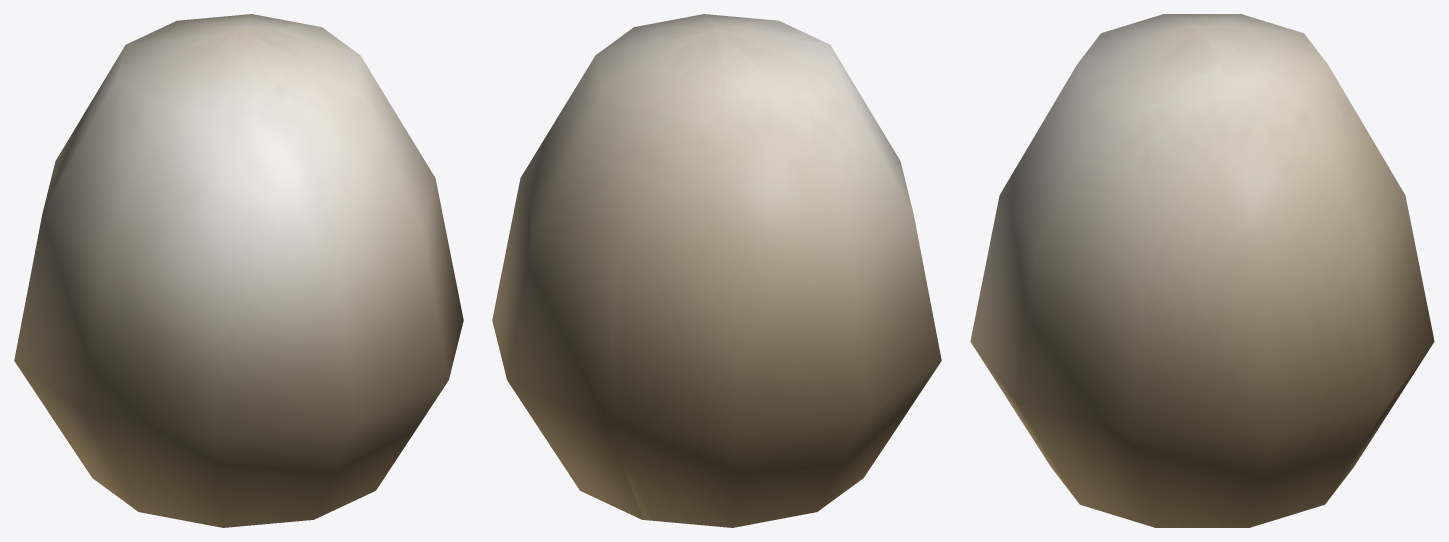
Rendered from Trung.fbx.
3 renders of one model, left to right at view 1: azimuth 30°, elevation 25°; view 2: azimuth 150°, elevation 25°; view 3: azimuth 270°, elevation 25°, orthographic.
Parts seen in each view (by area): view 1: Trung_0_mesh; view 2: Trung_0_mesh; view 3: Trung_0_mesh.
Boxes of the visible parts, x1=… form: Trung_0_mesh: x1=14, y1=14, x2=463, y2=527; Trung_0_mesh: x1=492, y1=14, x2=941, y2=527; Trung_0_mesh: x1=970, y1=14, x2=1434, y2=527.
Bounding box in the file's own units: 4.59 × 5.45 × 4.82.
1 material, 1 textured.
